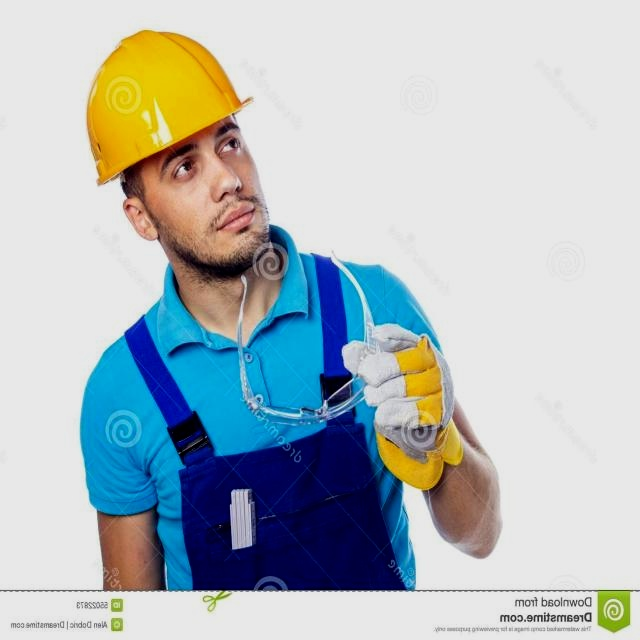Con_Casco: (85, 24, 272, 267)
